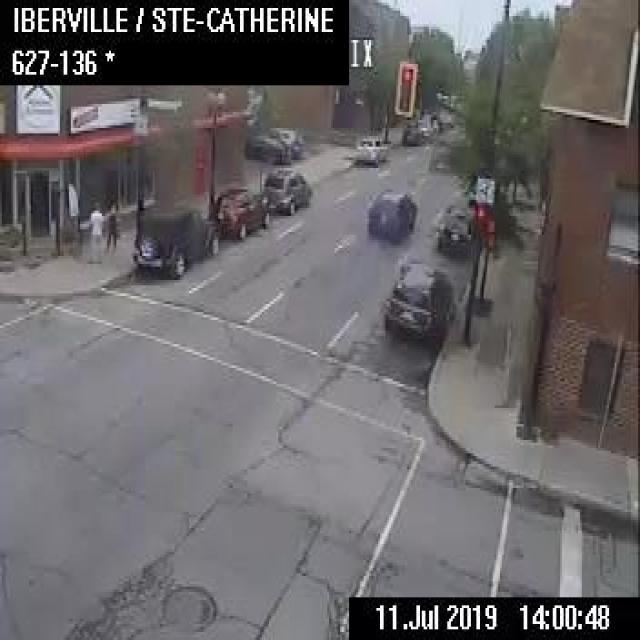pedestrian: (88, 198, 104, 259), (104, 200, 118, 248)
vehicle: (130, 203, 219, 275), (382, 258, 453, 347), (210, 186, 271, 238), (366, 186, 416, 235), (263, 166, 311, 212), (436, 204, 472, 258), (265, 125, 304, 158), (246, 130, 288, 160), (354, 135, 387, 164), (401, 120, 422, 142), (419, 116, 437, 135)
